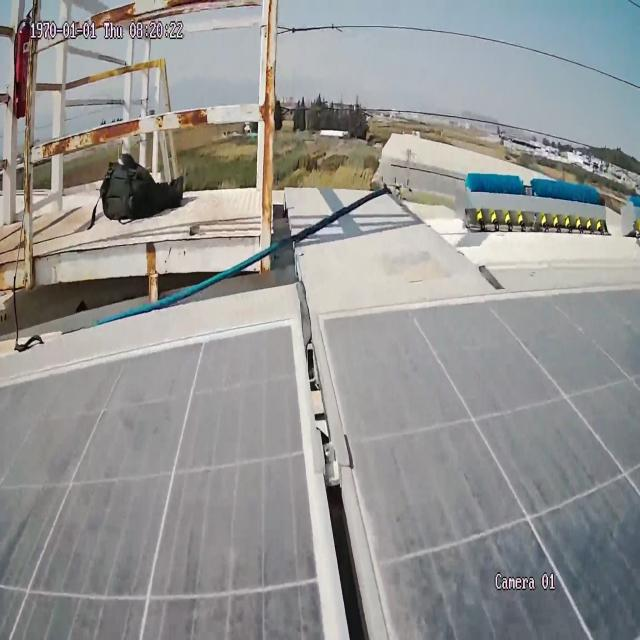interior panel: (253, 315, 419, 640)
